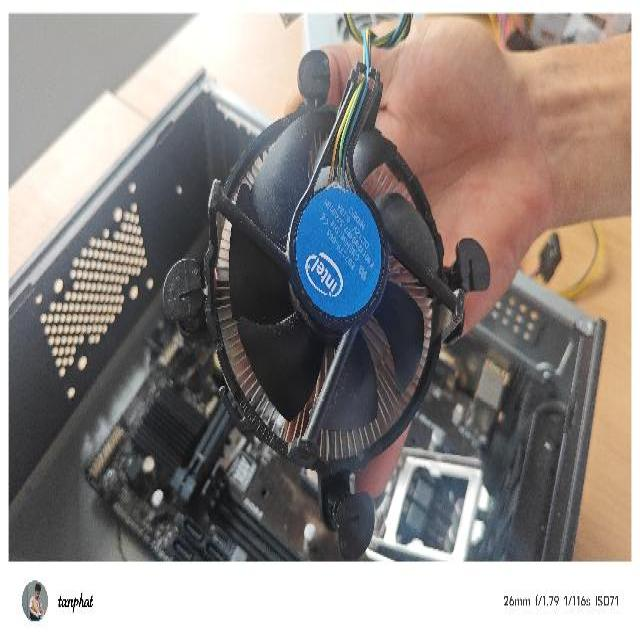CPU_Fan: (160, 46, 490, 564)
